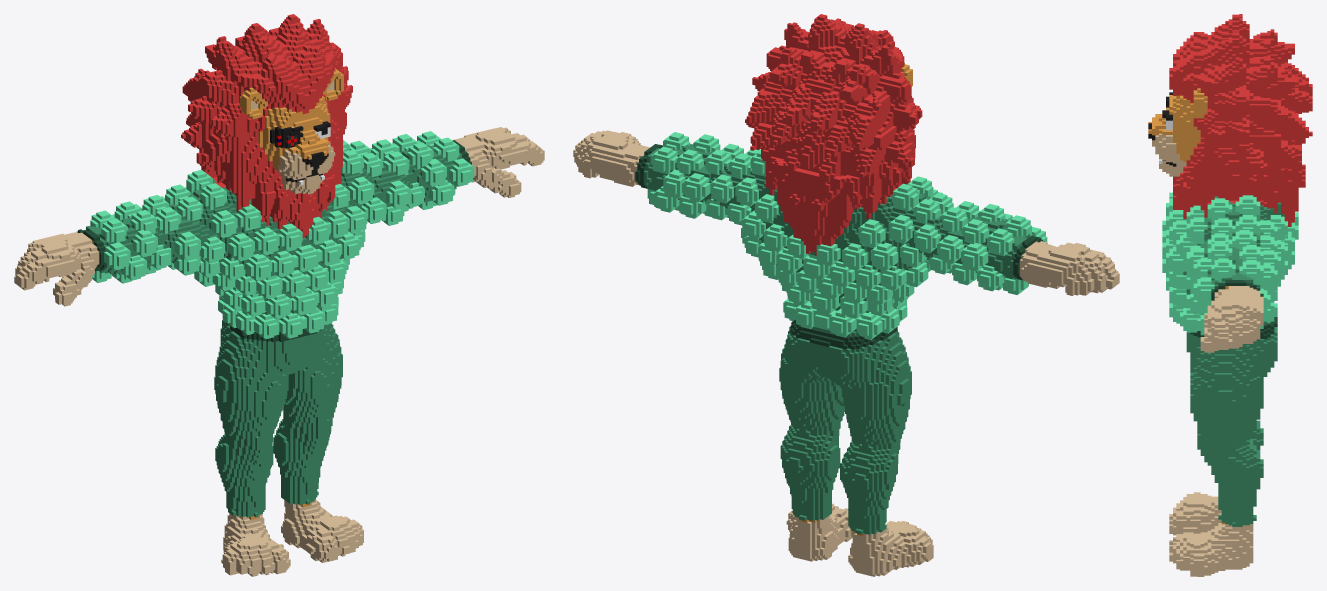
3 renders of one model, left to right at view 1: azimuth 30°, elevation 25°; view 2: azimuth 150°, elevation 25°; view 3: azimuth 270°, elevation 25°, orthographic. The views are drawn at different scales.
Visible parts, largest first — view 1: standard; view 2: standard; view 3: standard.
Part boxes in pixels (bbox=[...]): standard: bbox=[14, 14, 544, 576]; standard: bbox=[573, 14, 1119, 576]; standard: bbox=[1148, 14, 1312, 576].
Bounding box in the file's own units: 17.2 × 16.5 × 4.7.
5 materials, 5 textured.
